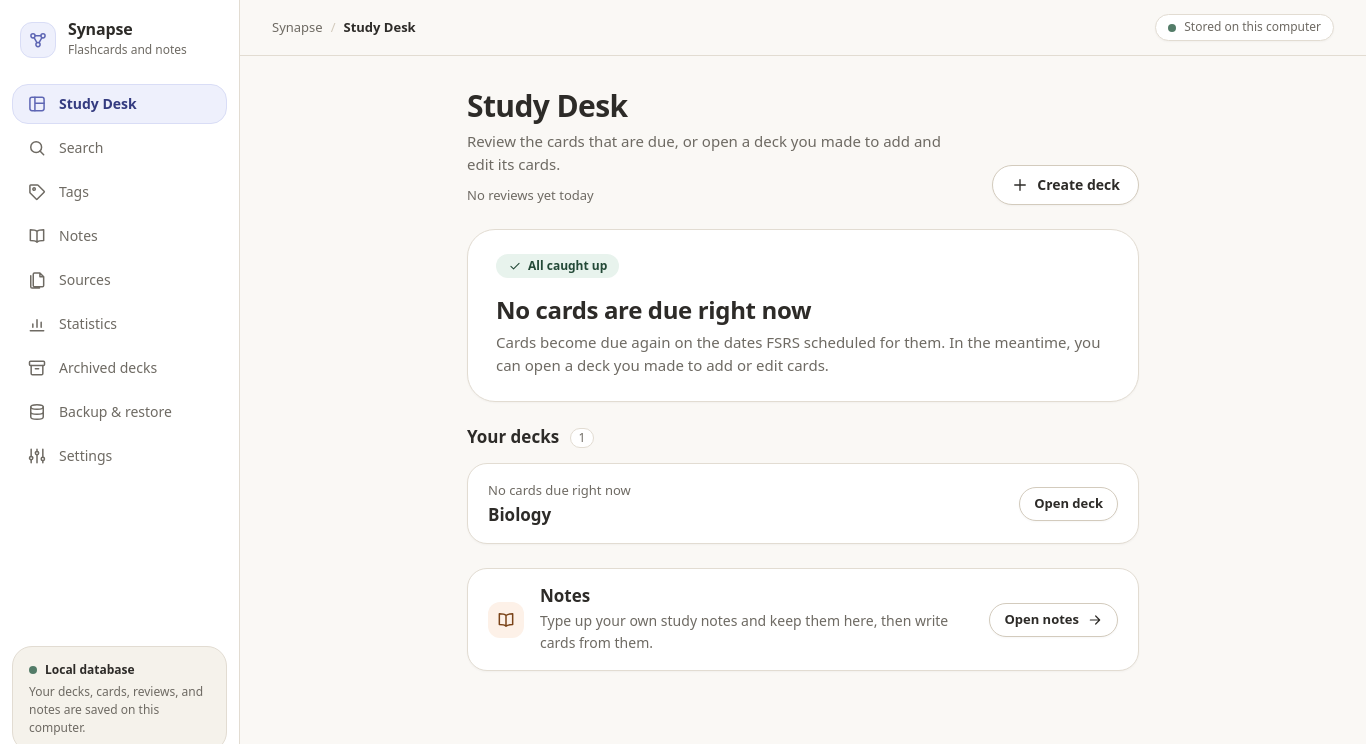
Test: reading a source's scanned pages › labels a recognised page opened from a suggested card's quote
Step 1. Click the button "Notes" → [120, 236], box top-left (12, 216), bottom-right (227, 256)
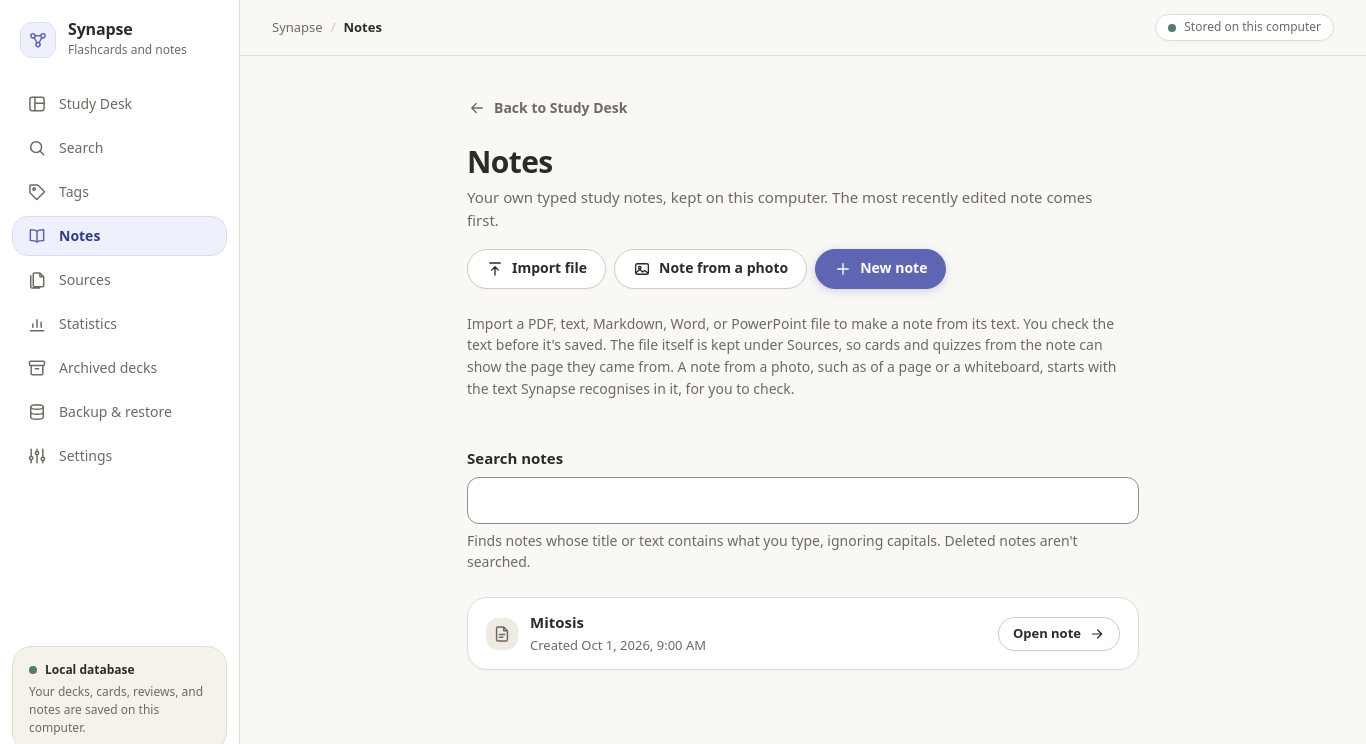
Step 2. Click the button "Open note" → [1059, 634], box top-left (998, 617), bottom-right (1120, 651)
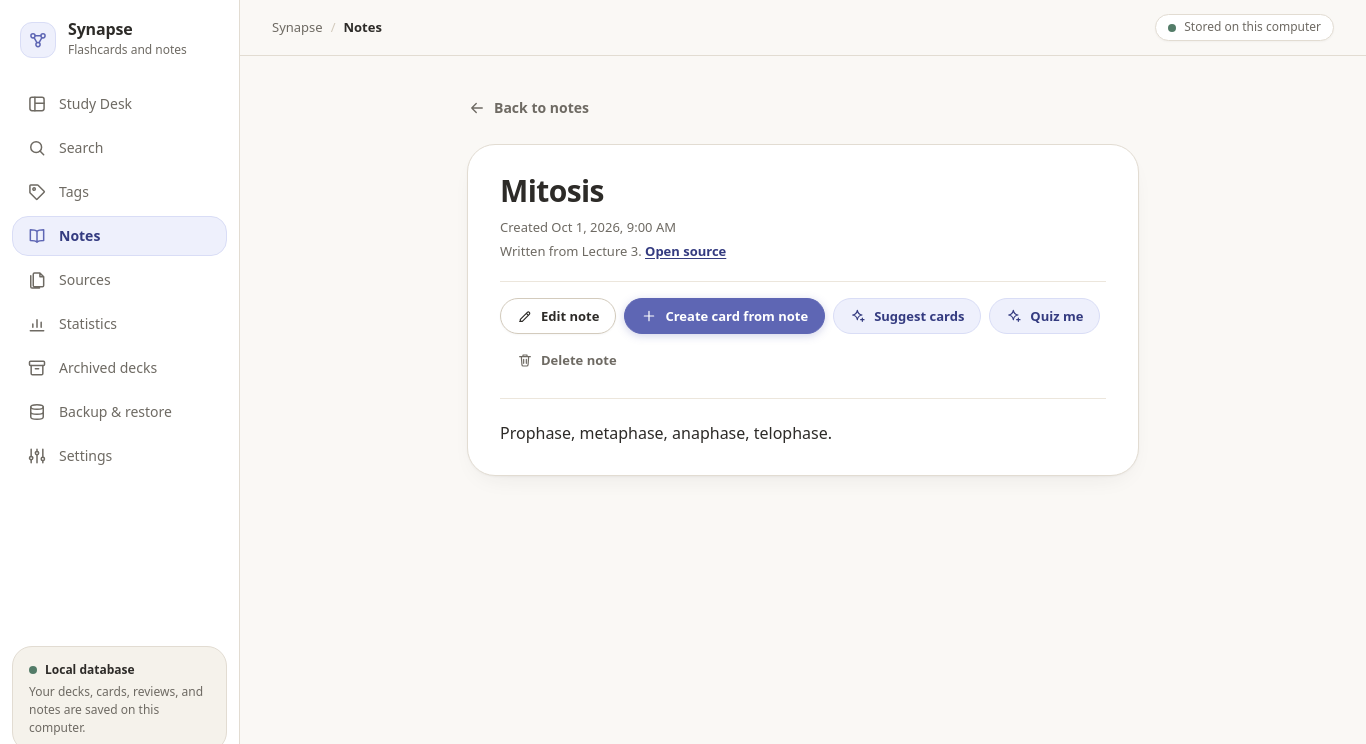
Step 3. Click the button "Suggest cards" → [907, 316], box top-left (833, 298), bottom-right (981, 334)
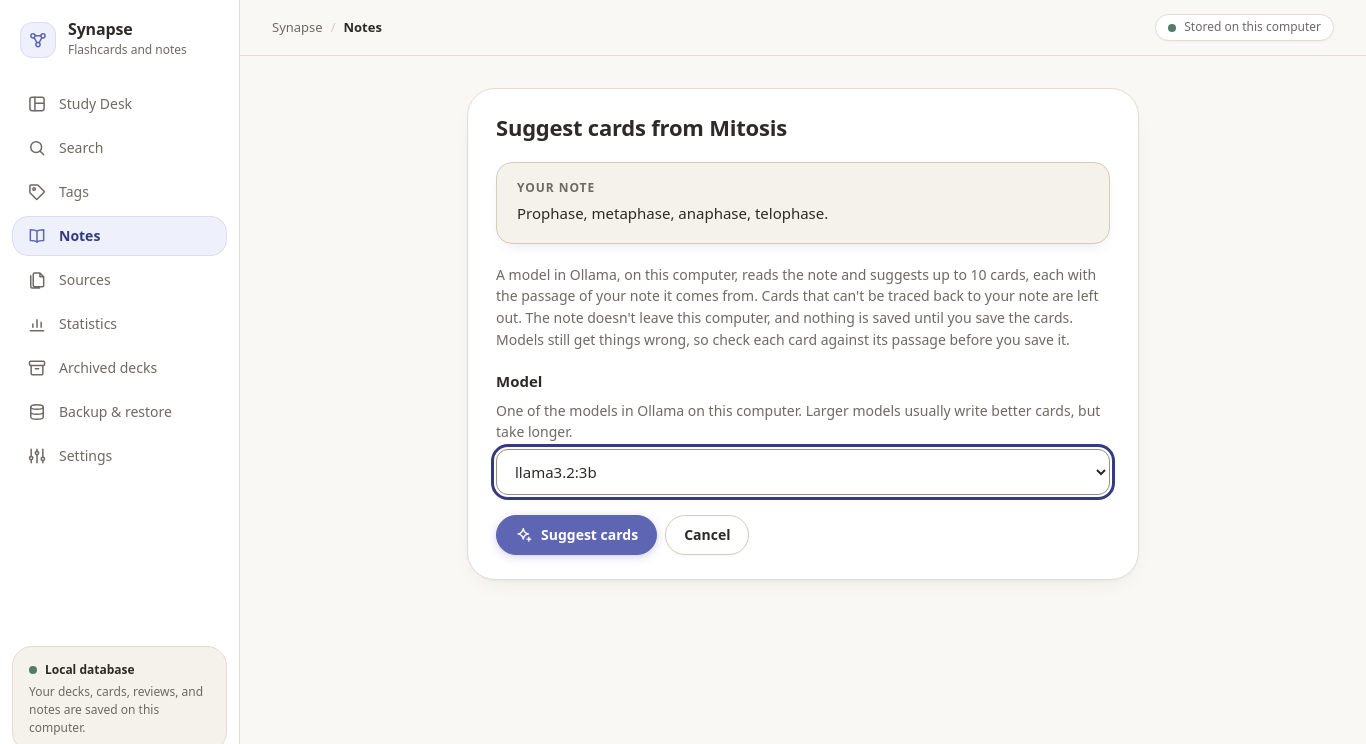
Step 4. Click the button "Suggest cards" → [577, 535], box top-left (496, 515), bottom-right (657, 555)
(page scrolled)
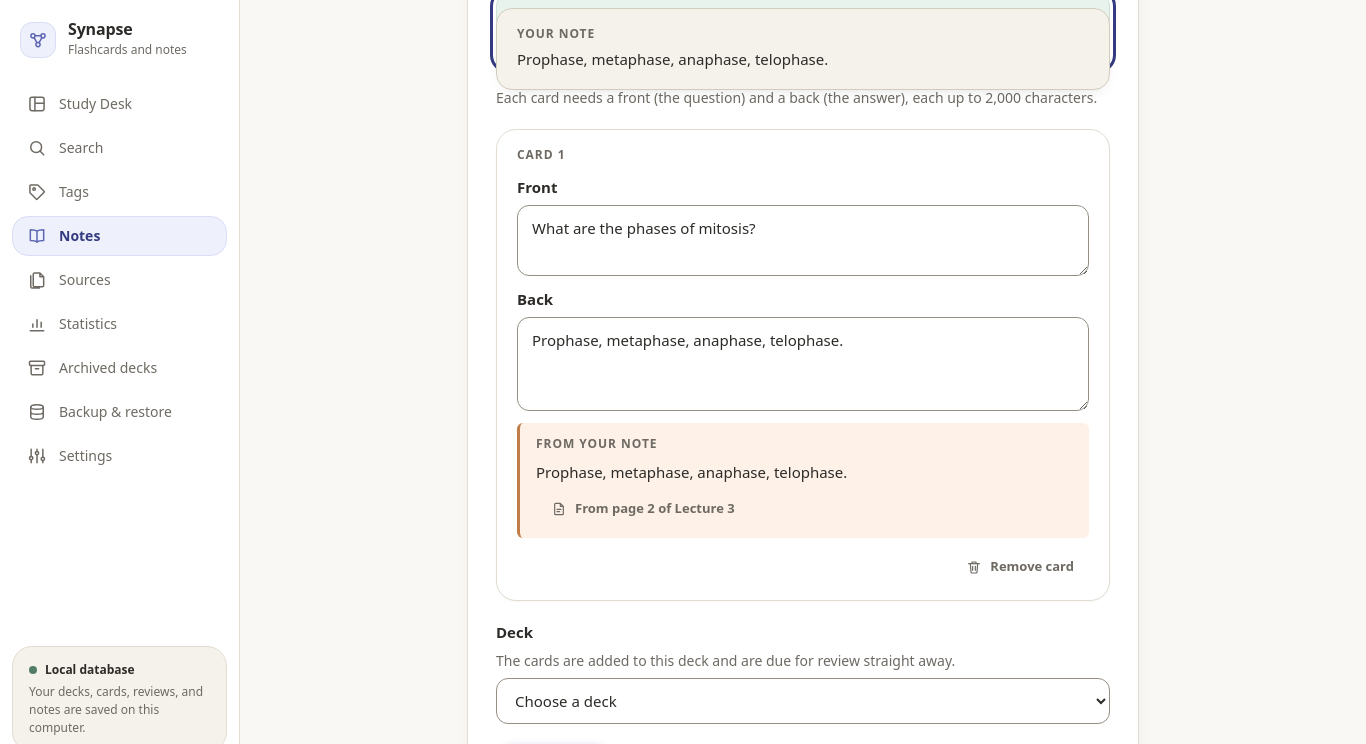
Step 5. Click the button "From page 2 of Lecture 3" → [643, 509], box top-left (536, 492), bottom-right (750, 526)
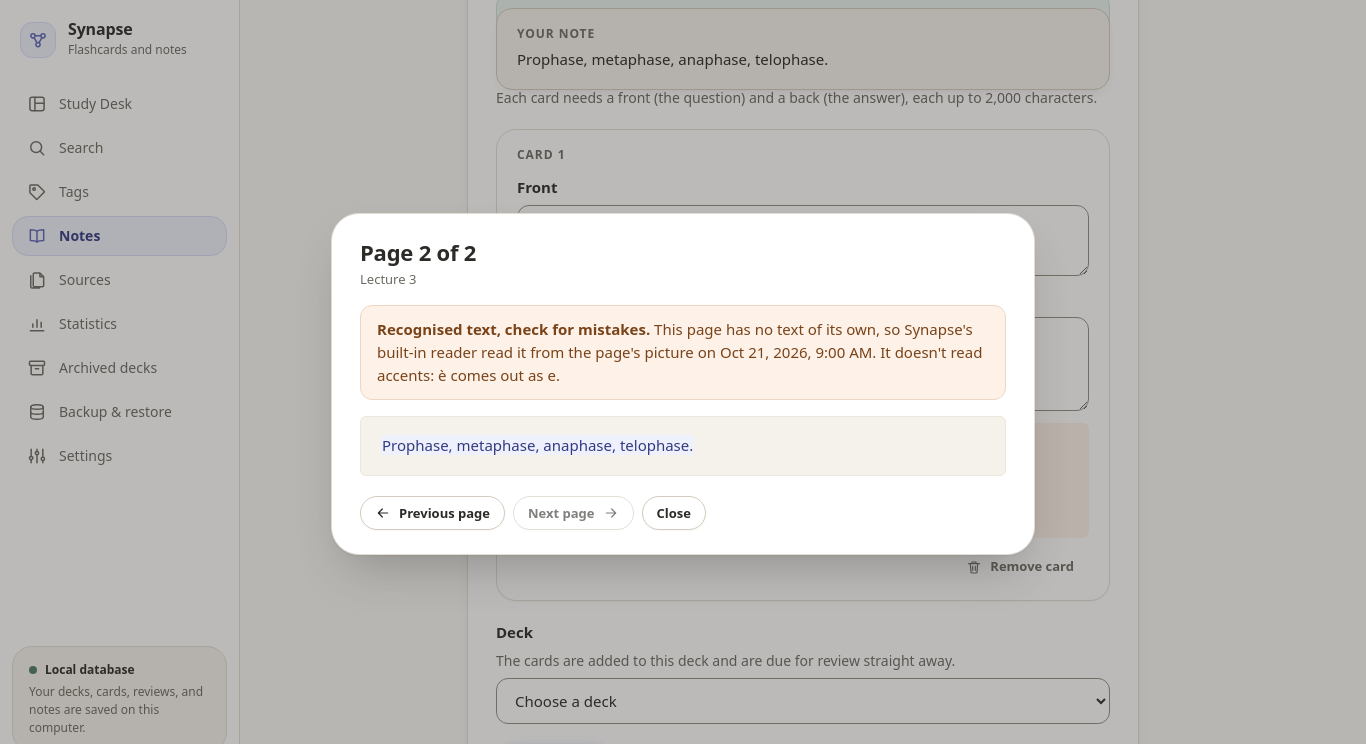
Result: the text "Recognised text, check for mistakes." is shown at top-left (377, 319), bottom-right (650, 339)
